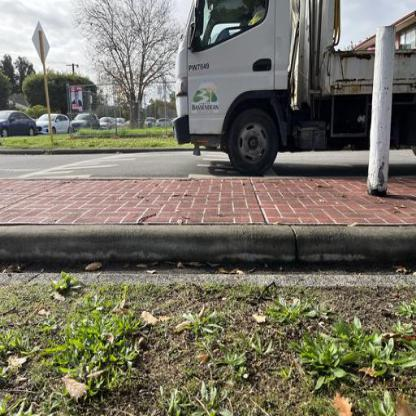Tire: (228, 108, 279, 176)
